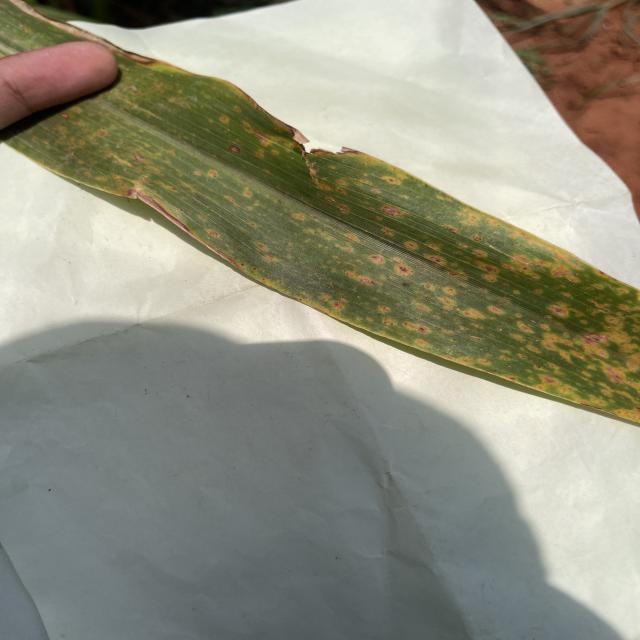millet_rust: (0, 0, 640, 422)
